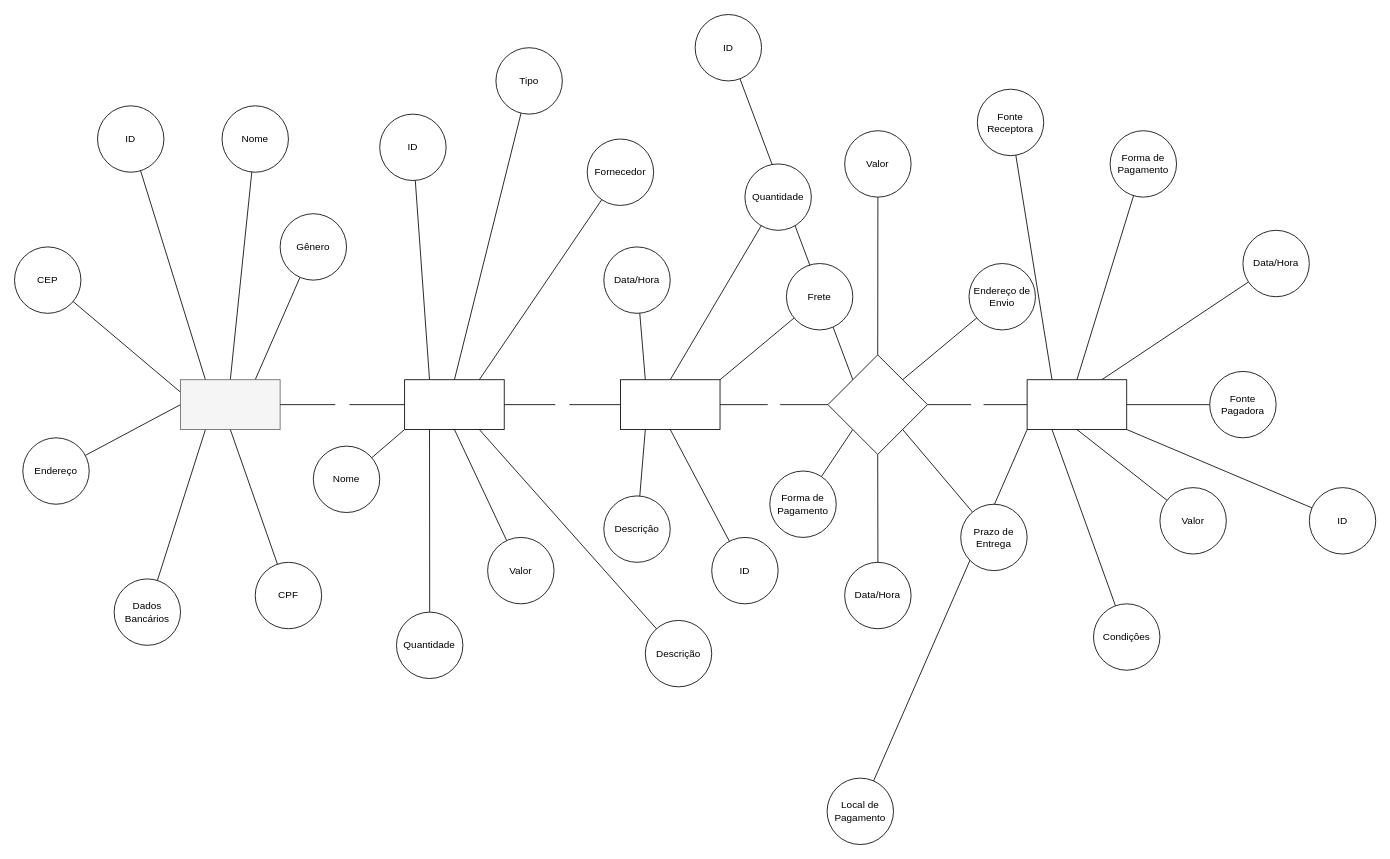
Image size: 1390x859. Some labels were removed from this diagram. The shapes that lost their labels are listed below. From the top down, each one's centre as x and y in pixels, then its label:
point 230,404: Cliente
point 454,404: Produto
point 670,404: Pedido
point 877,404: Compra
point 1076,404: Pagamento
